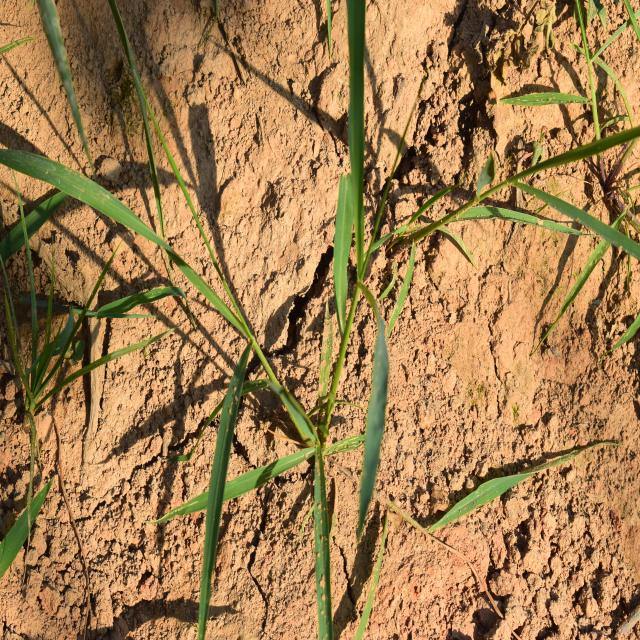green_foxtail: (45, 100, 297, 536), (299, 34, 443, 503)
